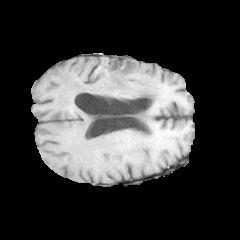glioma: (58, 59, 164, 136)
